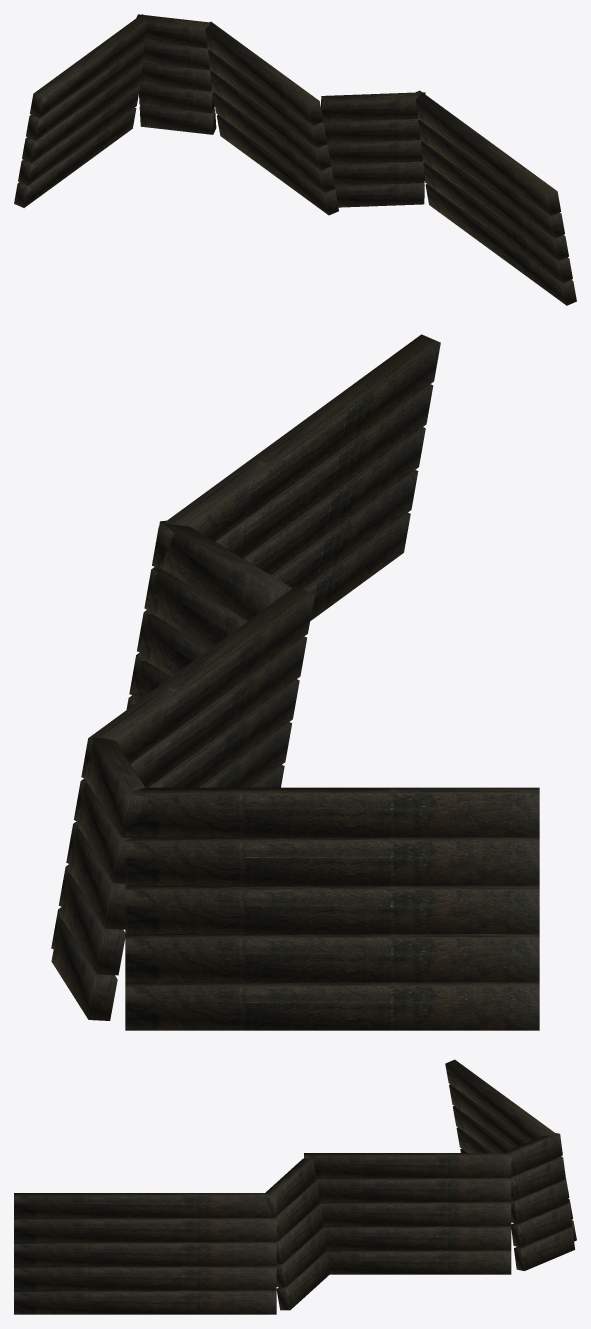
The model's file is WoodenBarrierPartTest08.obj.
3 renders of one model, top to bottom at view 1: azimuth 30°, elevation 25°; view 2: azimuth 150°, elevation 25°; view 3: azimuth 270°, elevation 25°, orthographic. The views are drawn at different scales.
Visible parts, largest first — view 1: Box002; view 2: Box002; view 3: Box002.
Part boxes in pixels (box(x1,y1,x2,y2)): Box002: box(14, 14, 576, 305); Box002: box(51, 334, 539, 1030); Box002: box(14, 1059, 576, 1314).
Size of the model in its own units: 184 by 63.84 by 293.
